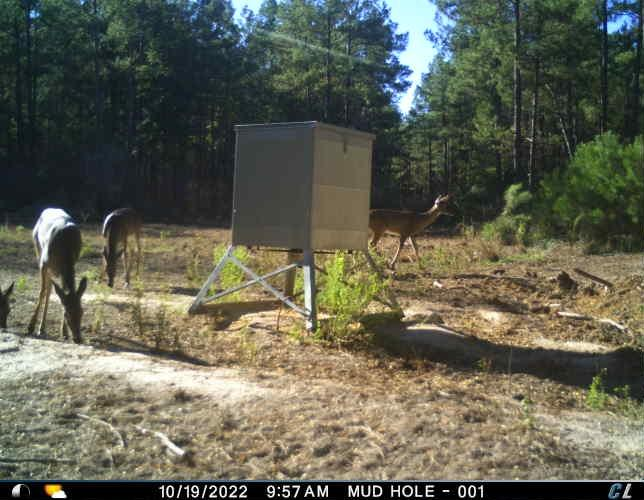Deer: (29, 203, 88, 345), (363, 192, 459, 271), (102, 204, 141, 287), (0, 276, 16, 334)
